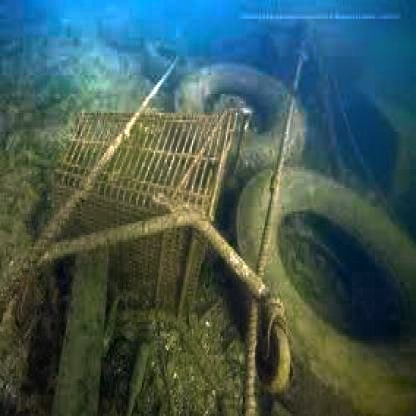metal: (44, 99, 256, 341)
tire: (239, 167, 416, 416), (164, 45, 312, 223)
